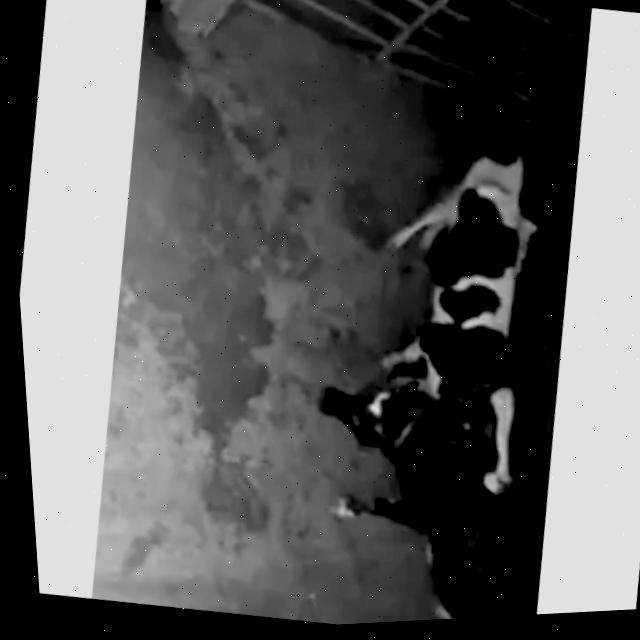propping: (405, 334, 563, 548)
